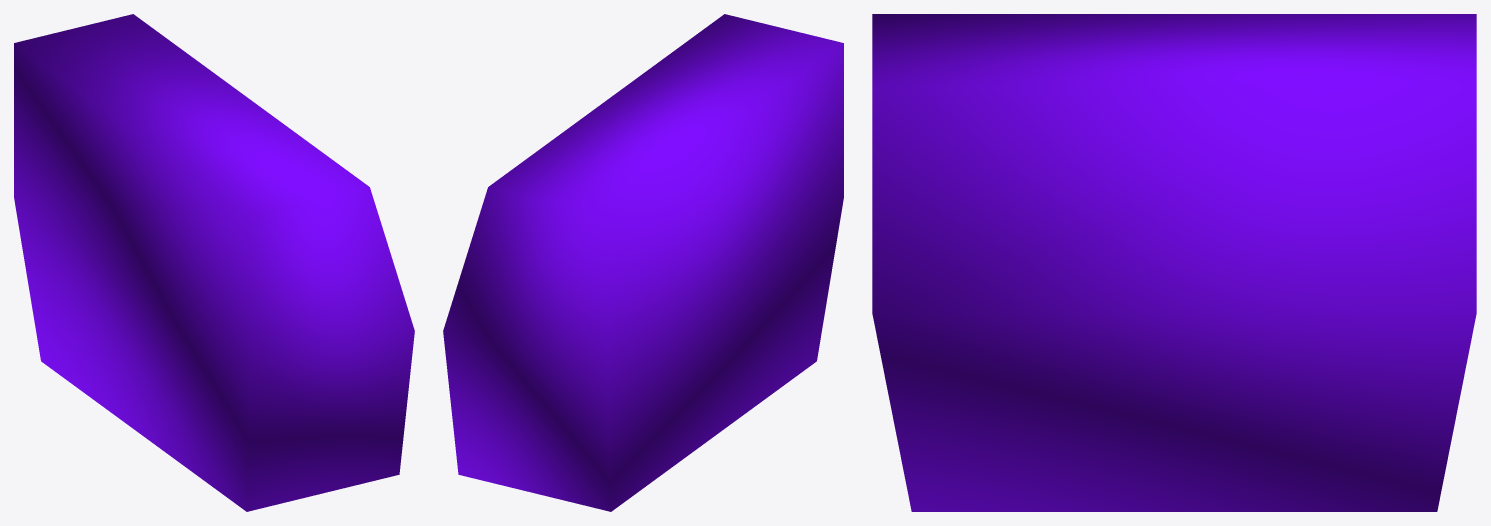
The model's file is soldiers_hawk_2_medicBag_onGround_meshCollider.fbx.
The picture shows the model from 3 angles, left to right: view 1: azimuth 30°, elevation 25°; view 2: azimuth 150°, elevation 25°; view 3: azimuth 270°, elevation 25°; orthographic projection. The views are drawn at different scales.
Visible parts, largest first — view 1: soldiers_hawk_2_medicBag_onGround_meshCollider; view 2: soldiers_hawk_2_medicBag_onGround_meshCollider; view 3: soldiers_hawk_2_medicBag_onGround_meshCollider.
Part boxes in pixels (bbox=[...]): soldiers_hawk_2_medicBag_onGround_meshCollider: bbox=[14, 14, 414, 511]; soldiers_hawk_2_medicBag_onGround_meshCollider: bbox=[443, 14, 843, 511]; soldiers_hawk_2_medicBag_onGround_meshCollider: bbox=[872, 14, 1476, 511].
Size of the model in its own units: 7 by 12.62 by 17.46.
